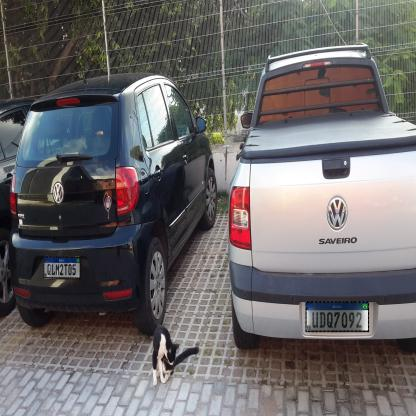PlacaM: (306, 301, 369, 332), (43, 256, 80, 278)
